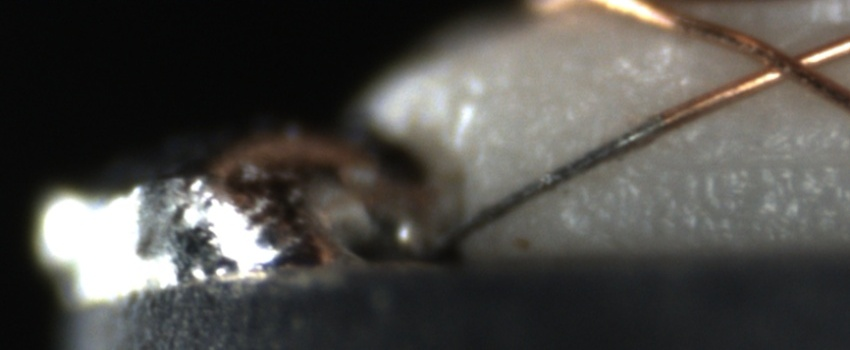CL: (743, 33, 835, 91)
DL: (540, 136, 850, 190)
TS: (433, 115, 664, 250)
